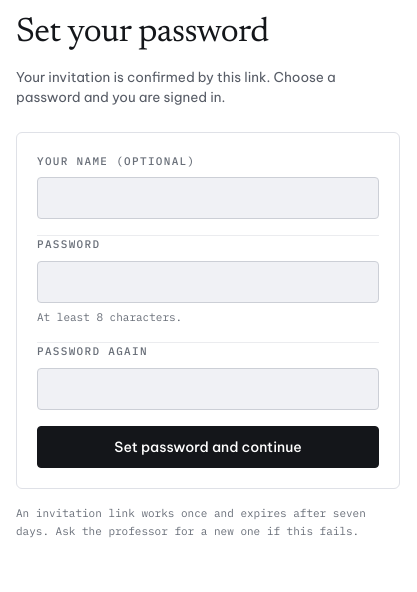
it: refuses to submit two passwords that differ
The width and height of the screenshot is (417, 592).
Type "correct horse battery staple" into the password field labelled "Password" at (208, 282), box [37,260,379,302]
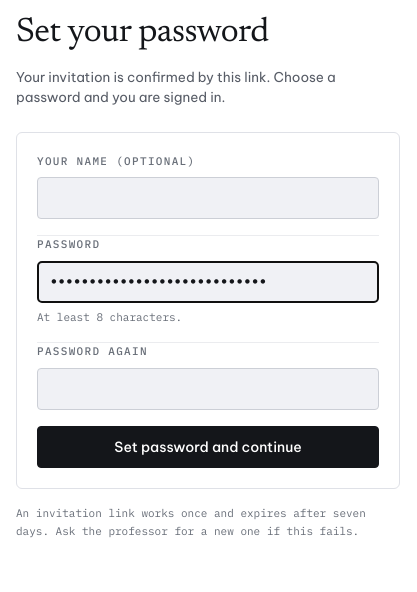
Type "something else entirely" into the password field labelled "Password again" at (208, 389), box [37,368,379,410]
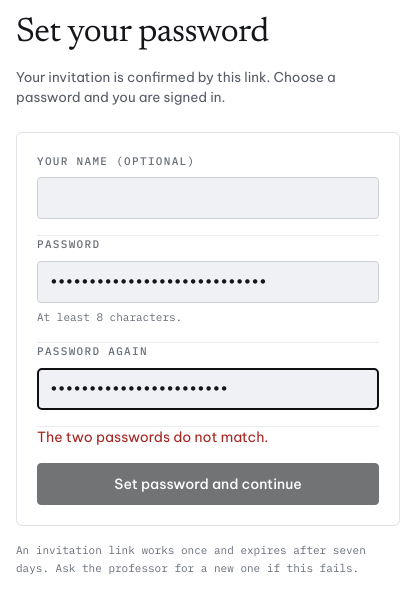
Result: the message shows "do not match" at [37,428,268,446]
Result: the button "Set password and continue" is disabled at [37,463,379,505]
